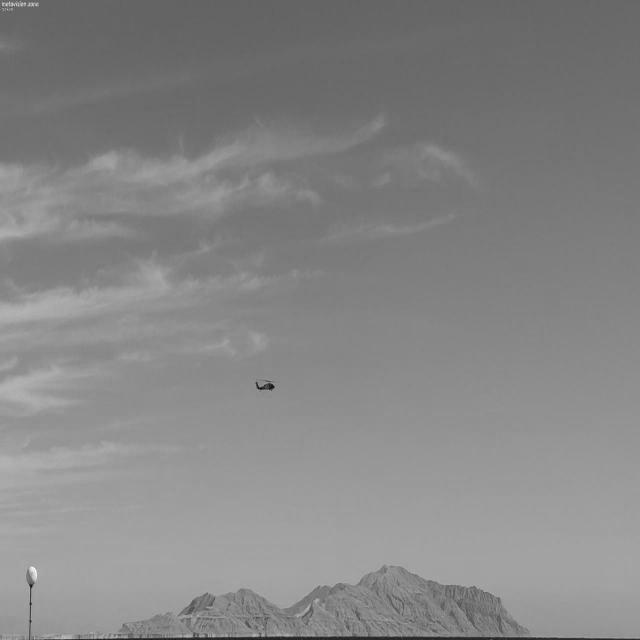helikopter: (237, 346, 306, 426)
